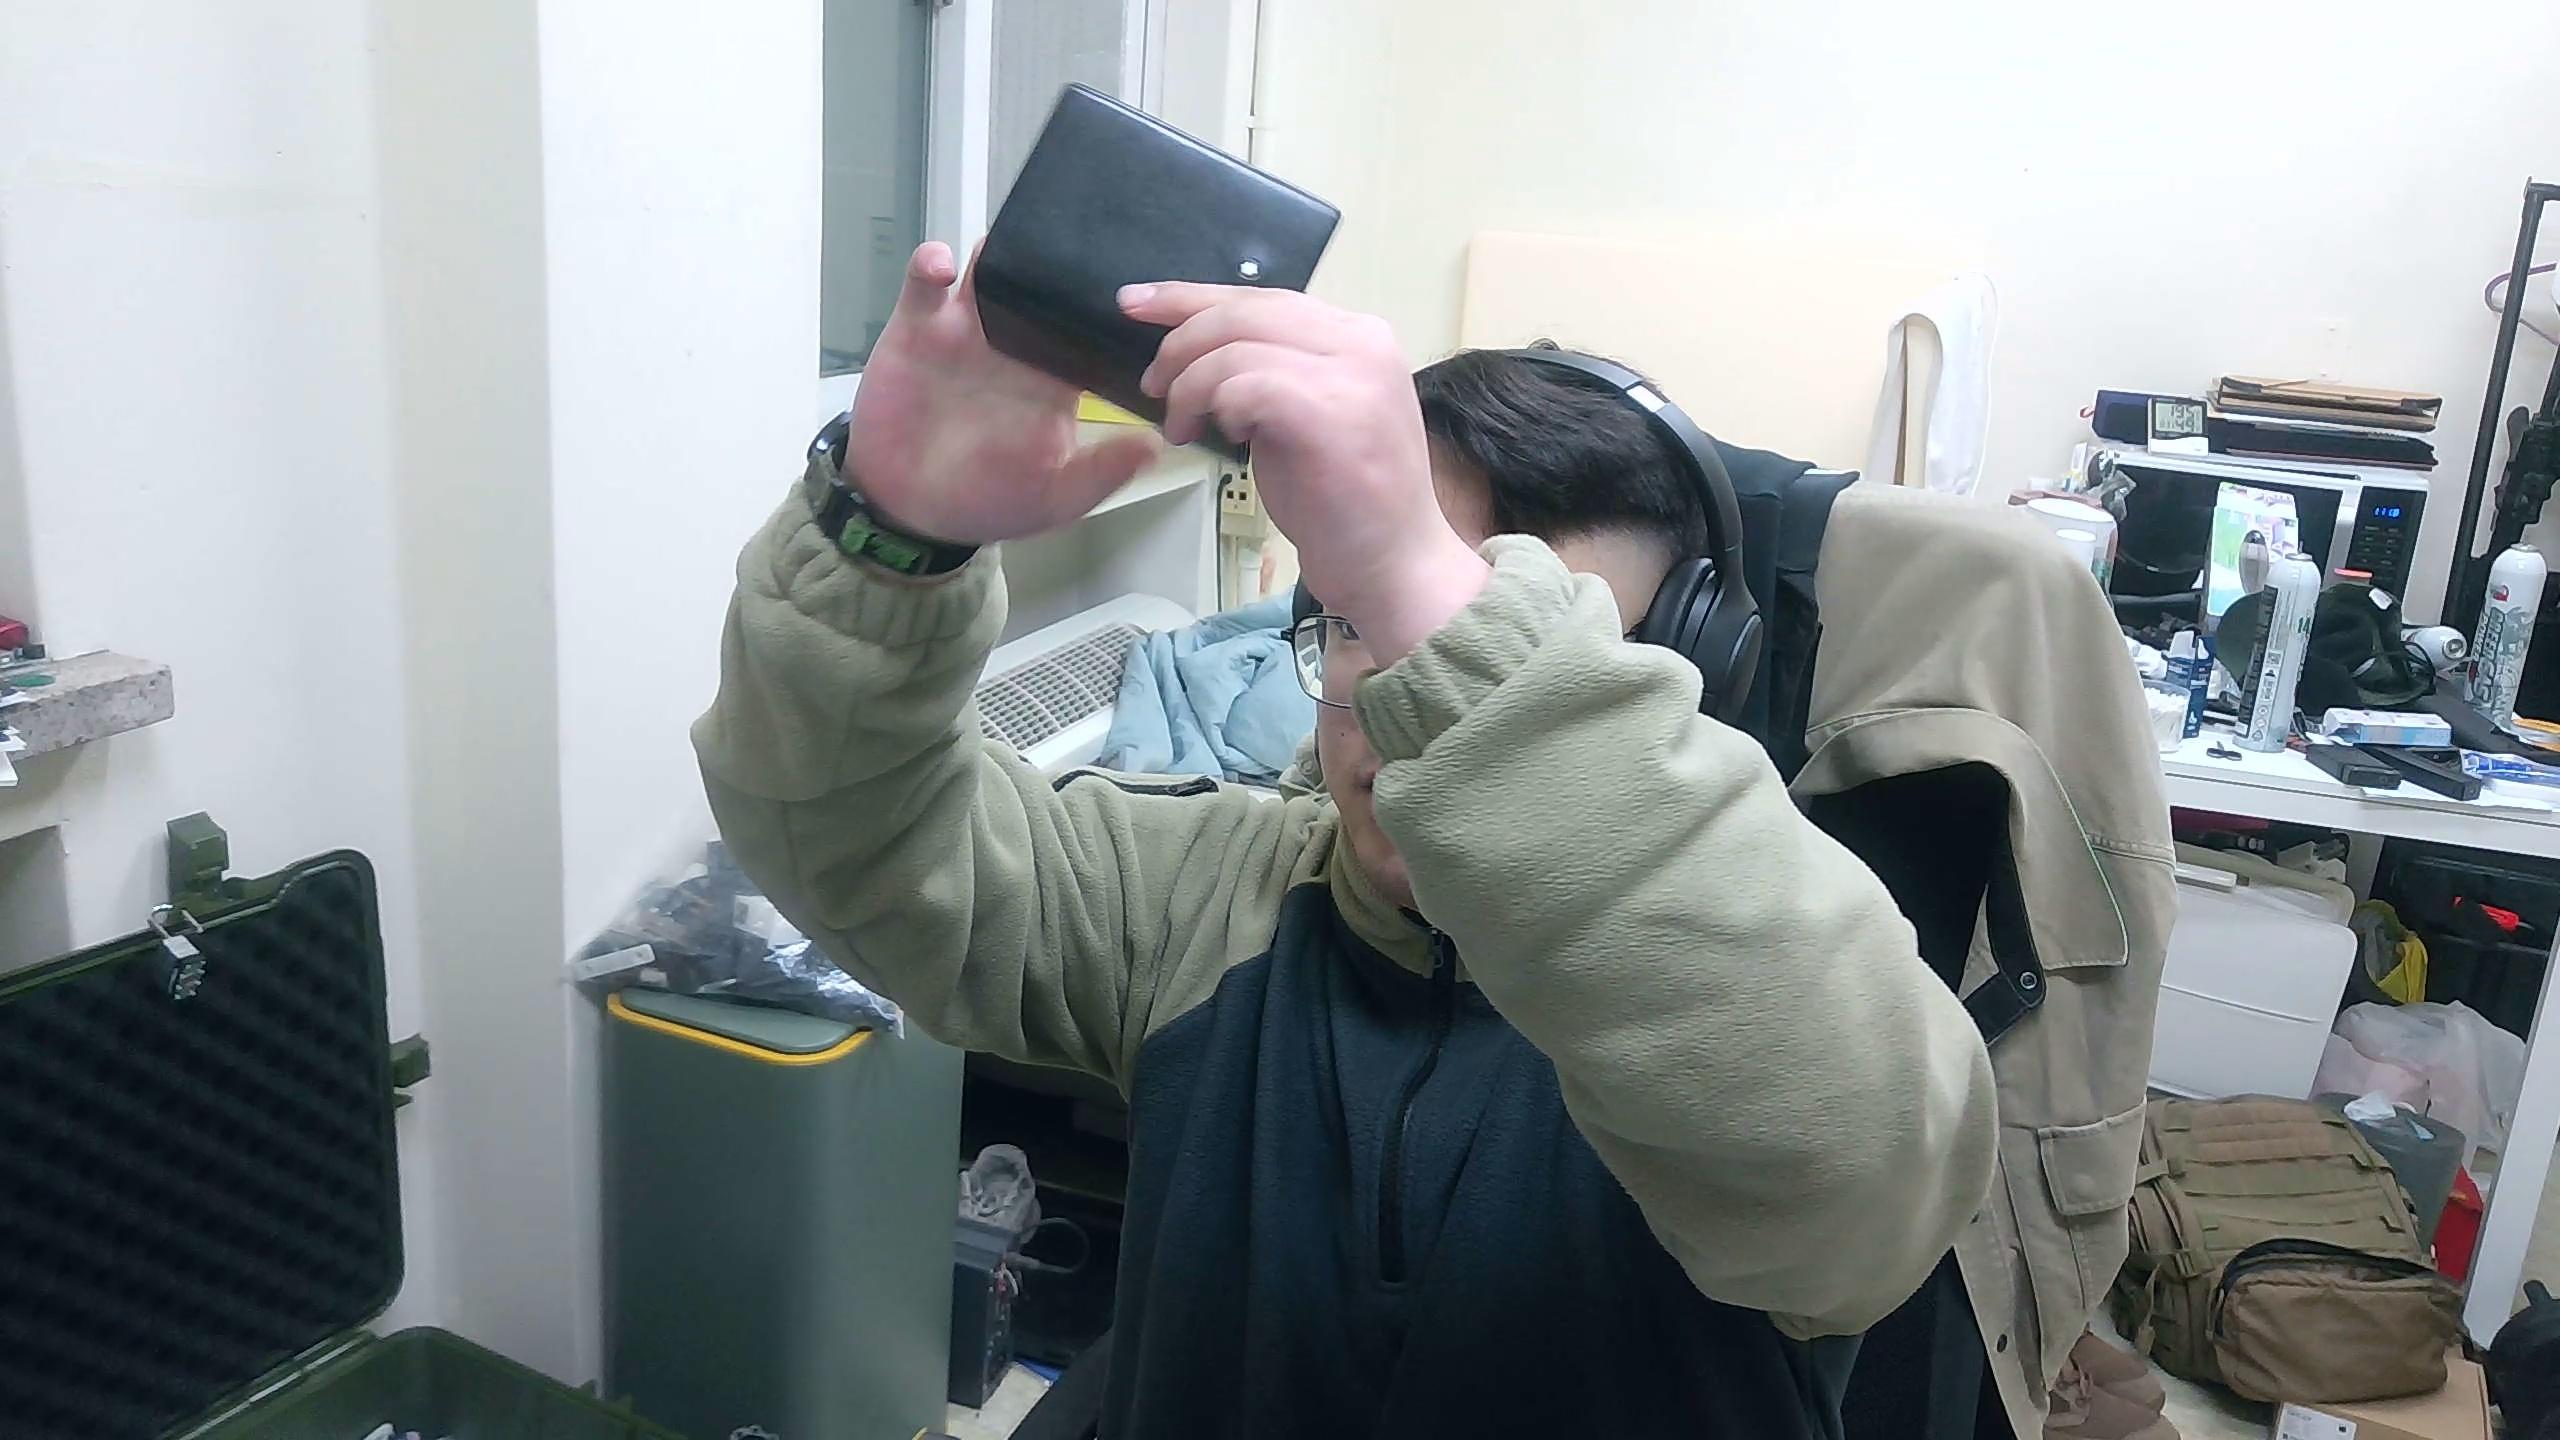Wallet: (967, 79, 1345, 454)
